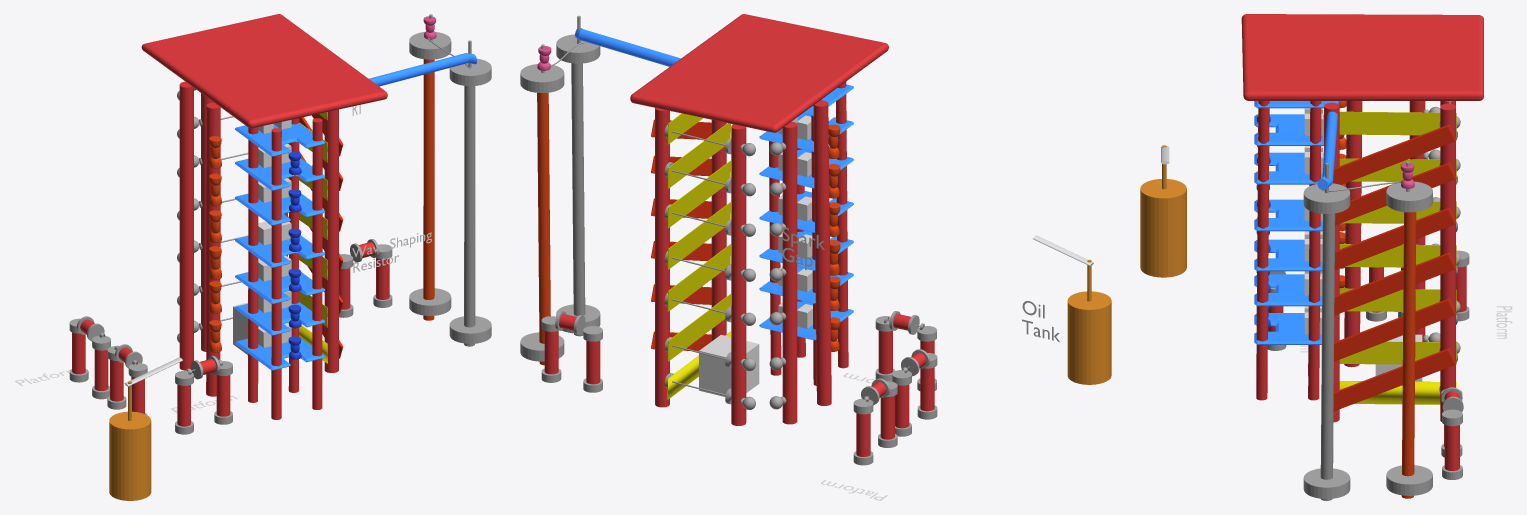
File: impulse_voltage_generator.glb
3 renders of one model, left to right at view 1: azimuth 30°, elevation 25°; view 2: azimuth 150°, elevation 25°; view 3: azimuth 270°, elevation 25°, orthographic. The views are drawn at different scales.
Parts seen in each view (by area): view 1: Cube.002, Cylinder.009, Cylinder.001, Cylinder.002, Cylinder.028, Cylinder.046, Cylinder.045, Cylinder.027, Cylinder.044, Cylinder.006, Cylinder, Plane.014 (+21 smaller); view 2: Cube.002, Cylinder.006, Cylinder.009, Cylinder, Cylinder.001, Cylinder.004, Cylinder.028, Cylinder.027, Cylinder.003, Cylinder.045, Cube, Cylinder.002 (+22 smaller); view 3: Cube.002, Cylinder.001, Cylinder.028, Cylinder.027, Cylinder.046, Cylinder.004, Cylinder.043, Cube.001, Plane.007, Cube.008, Cube.007, Cube.006 (+28 smaller).
Part boxes in pixels (x1=…): Cube.002: x1=141, y1=14, x2=387, y2=128; Cylinder.009: x1=179, y1=81, x2=193, y2=370; Cylinder.001: x1=109, y1=381, x2=151, y2=500; Cylinder.002: x1=324, y1=109, x2=338, y2=372; Cylinder.028: x1=464, y1=86, x2=475, y2=346; Cylinder.046: x1=312, y1=118, x2=322, y2=409; Cylinder.045: x1=271, y1=128, x2=281, y2=419; Cylinder.027: x1=423, y1=59, x2=434, y2=320; Cylinder.044: x1=248, y1=127, x2=258, y2=402; Cylinder.006: x1=206, y1=102, x2=220, y2=396; Cylinder: x1=201, y1=93, x2=213, y2=351; Plane.014: x1=235, y1=123, x2=325, y2=156; Cube.002: x1=630, y1=14, x2=888, y2=132; Cylinder.006: x1=813, y1=100, x2=831, y2=405; Cylinder.009: x1=782, y1=121, x2=797, y2=424; Cylinder: x1=731, y1=124, x2=746, y2=425; Cylinder.001: x1=1067, y1=259, x2=1111, y2=384; Cylinder.004: x1=655, y1=108, x2=669, y2=407; Cylinder.028: x1=571, y1=63, x2=585, y2=336; Cylinder.027: x1=537, y1=93, x2=550, y2=365; Cylinder.003: x1=655, y1=109, x2=669, y2=407; Cylinder.045: x1=836, y1=81, x2=848, y2=368; Cube: x1=699, y1=334, x2=759, y2=396; Cylinder.002: x1=711, y1=120, x2=726, y2=340; Cube.002: x1=1241, y1=14, x2=1483, y2=100; Cylinder.001: x1=1140, y1=145, x2=1186, y2=277; Cylinder.028: x1=1320, y1=213, x2=1335, y2=500; Cylinder.027: x1=1401, y1=212, x2=1416, y2=498; Cylinder.046: x1=1256, y1=101, x2=1269, y2=400; Cylinder.004: x1=1440, y1=103, x2=1455, y2=421; Cylinder.043: x1=1308, y1=101, x2=1321, y2=400; Cube.001: x1=1333, y1=124, x2=1456, y2=184; Plane.007: x1=1339, y1=111, x2=1456, y2=135; Cube.008: x1=1333, y1=348, x2=1456, y2=411; Cube.007: x1=1334, y1=298, x2=1456, y2=361; Cube.006: x1=1334, y1=252, x2=1456, y2=315.
Size of the model in its own units: 24.77 by 16.84 by 16.02.
